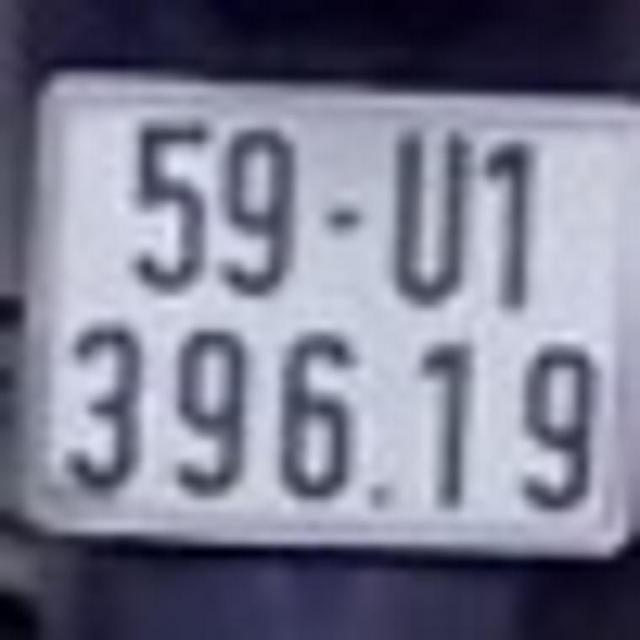1: (407, 324, 481, 511), (481, 129, 543, 313)
3: (64, 316, 147, 487)
5: (129, 115, 210, 292)
6: (272, 312, 363, 510)
9: (164, 316, 253, 503), (516, 333, 600, 514), (219, 119, 298, 296)
U: (386, 116, 476, 308)
